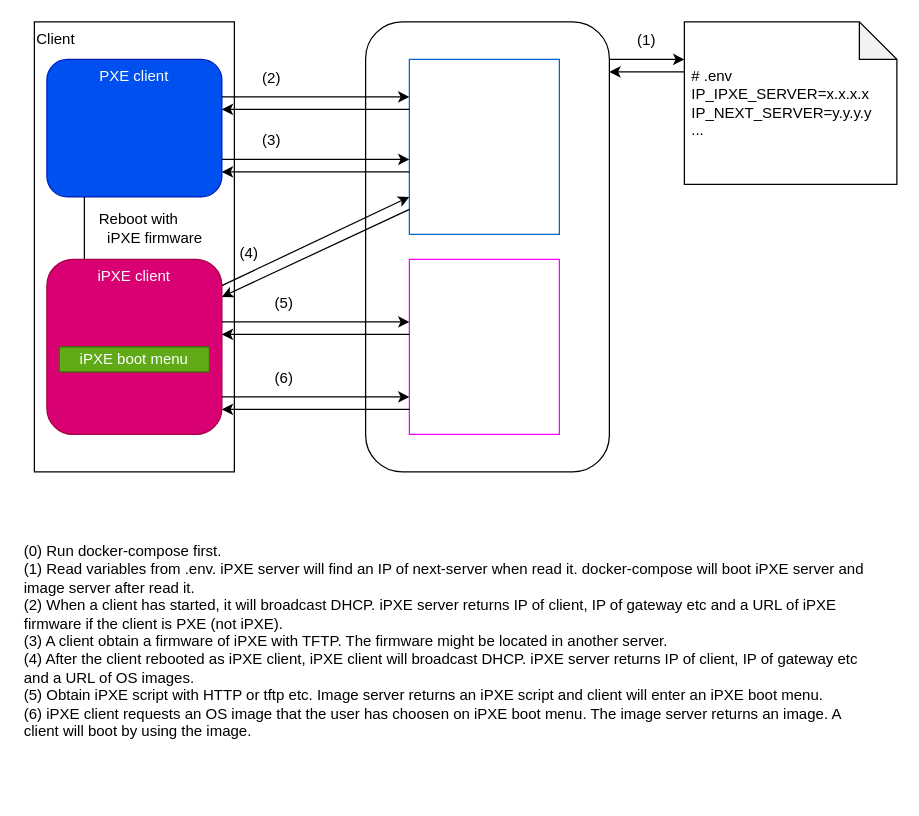
The diagram is 919 pixels wide and 816 high, and some of its shapes have lost their labels. Each missing label, with the centre of its shape:
"Image server (next-server)" belongs at pixel 483 346.
"iPXE server (include DHCP)" belongs at pixel 483 146.
